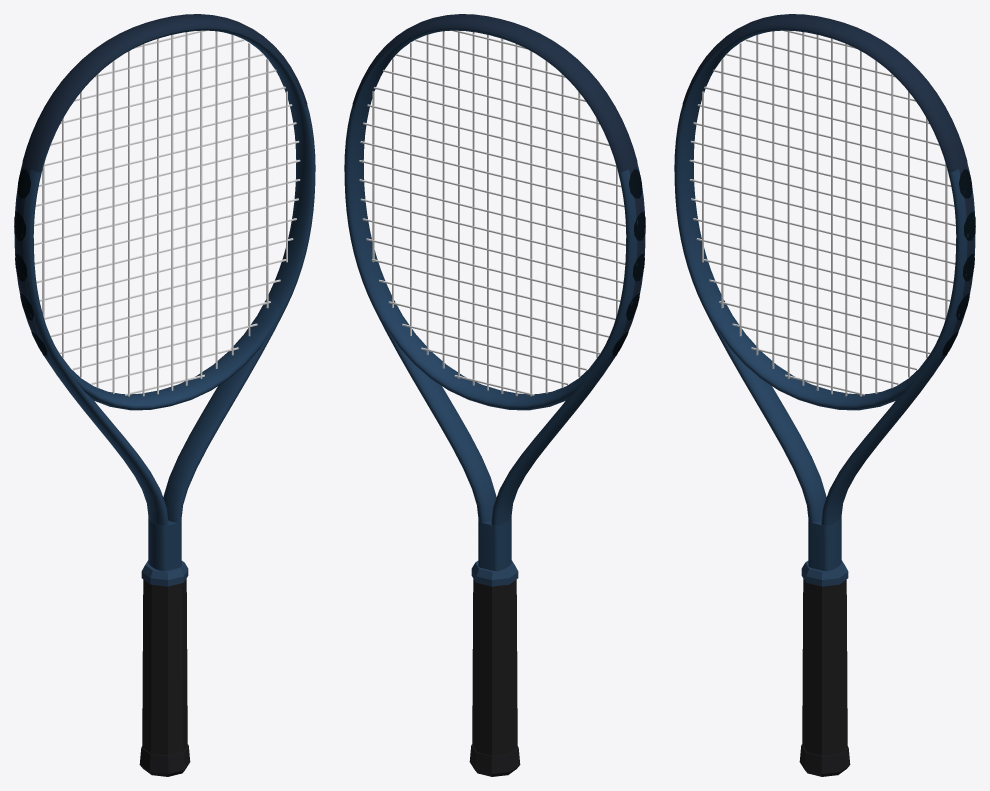
The model's file is prince-o3-legacy-110.glb.
The picture shows the model from 3 angles, left to right: view 1: azimuth 30°, elevation 25°; view 2: azimuth 150°, elevation 25°; view 3: azimuth 330°, elevation 25°; orthographic projection.
Parts seen in each view (by area): view 1: frame, strings_mains, strings_crosses, grip, bumper, grommets, butt_cap, collar; view 2: frame, strings_mains, strings_crosses, grip, bumper, grommets, butt_cap, collar; view 3: frame, strings_mains, strings_crosses, grip, bumper, grommets, butt_cap, collar.
Boxes of the visible parts, x1,y1,x2,y2 form: frame: (14,28,315,571); strings_mains: (42,30,287,396); strings_crosses: (34,30,300,395); grip: (142,579,187,755); bumper: (22,14,307,172); grommets: (14,164,49,359); butt_cap: (139,744,190,776); collar: (141,560,188,586); frame: (344,28,645,571); strings_mains: (372,30,617,396); strings_crosses: (359,30,625,395); grip: (472,579,517,755); bumper: (352,14,637,172); grommets: (610,164,645,359); butt_cap: (469,744,520,776); collar: (471,560,518,586); frame: (674,28,975,571); strings_mains: (702,30,947,396); strings_crosses: (689,30,955,395); grip: (802,579,847,755); bumper: (682,14,967,172); grommets: (940,164,975,359); butt_cap: (799,744,850,776); collar: (801,560,848,586).
Bounding box in the file's own units: 0.285 × 0.6924 × 0.0396.
